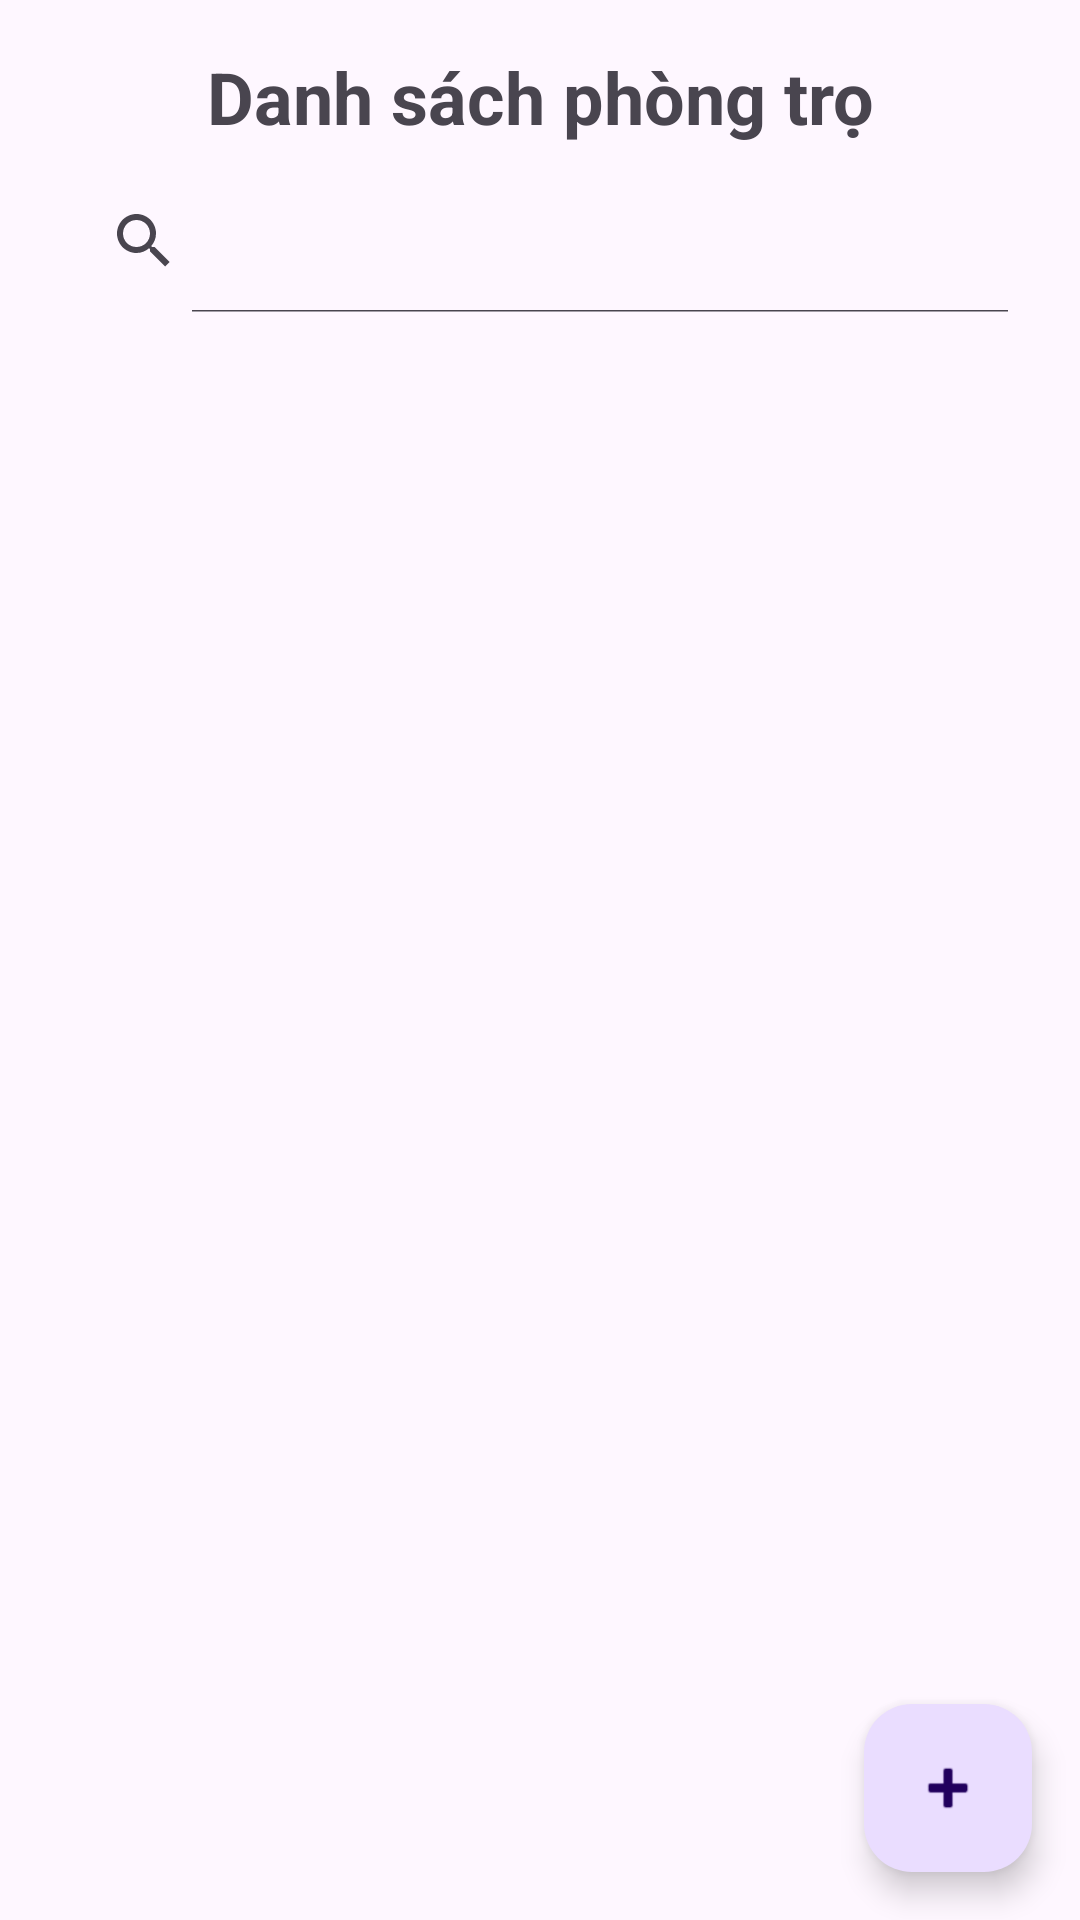

Locate icon controls on the screen. Image size 1080*1920, boxes as [x1=x1, y1=y1, x2=x2, y2=y2].
Thêm phòng: [x1=864, y1=1704, x2=1032, y2=1872]
